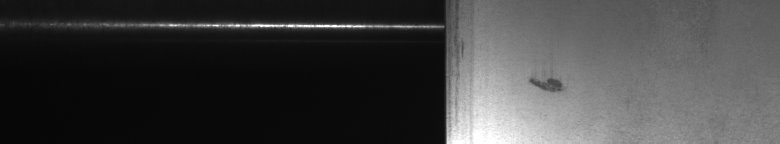fi: (529, 76, 564, 96)
